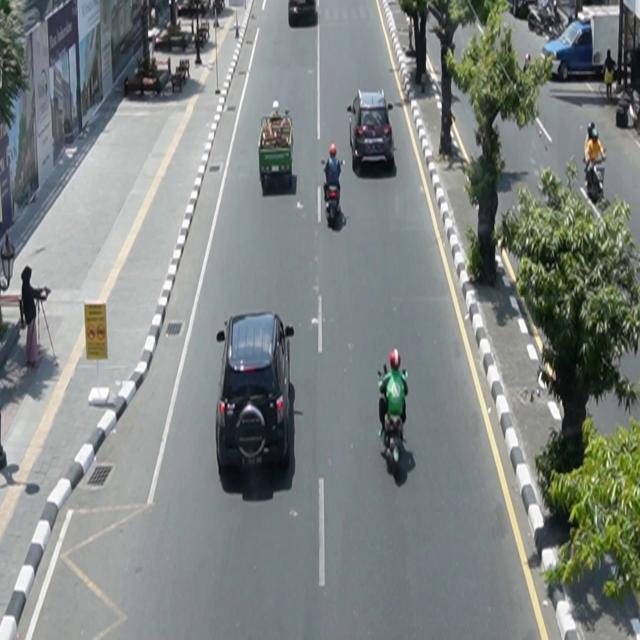car: (216, 311, 295, 476), (348, 89, 395, 171), (289, 1, 320, 28)
